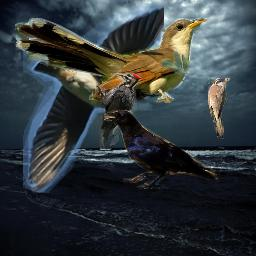Crow: (104, 110, 218, 189)
Cuckoo: (15, 18, 207, 103), (208, 78, 230, 139)
Swallow: (23, 3, 164, 193)
Woodpecker: (96, 73, 142, 149)
